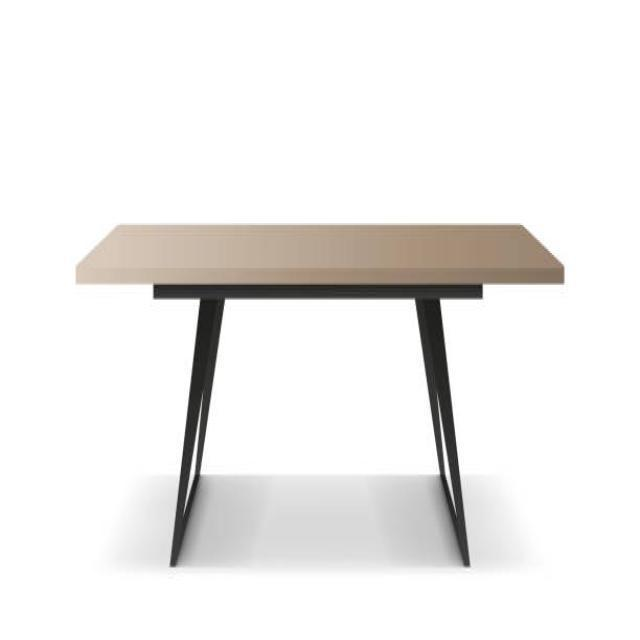table: (74, 220, 565, 568)
